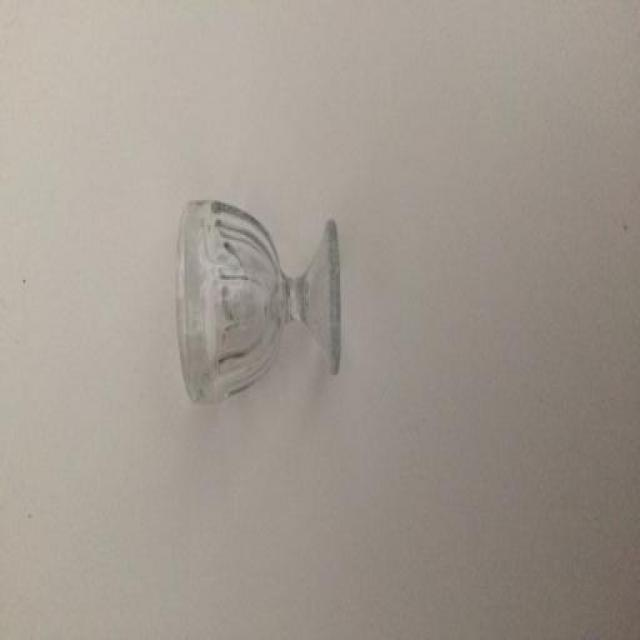Waste: (178, 202, 340, 402)
